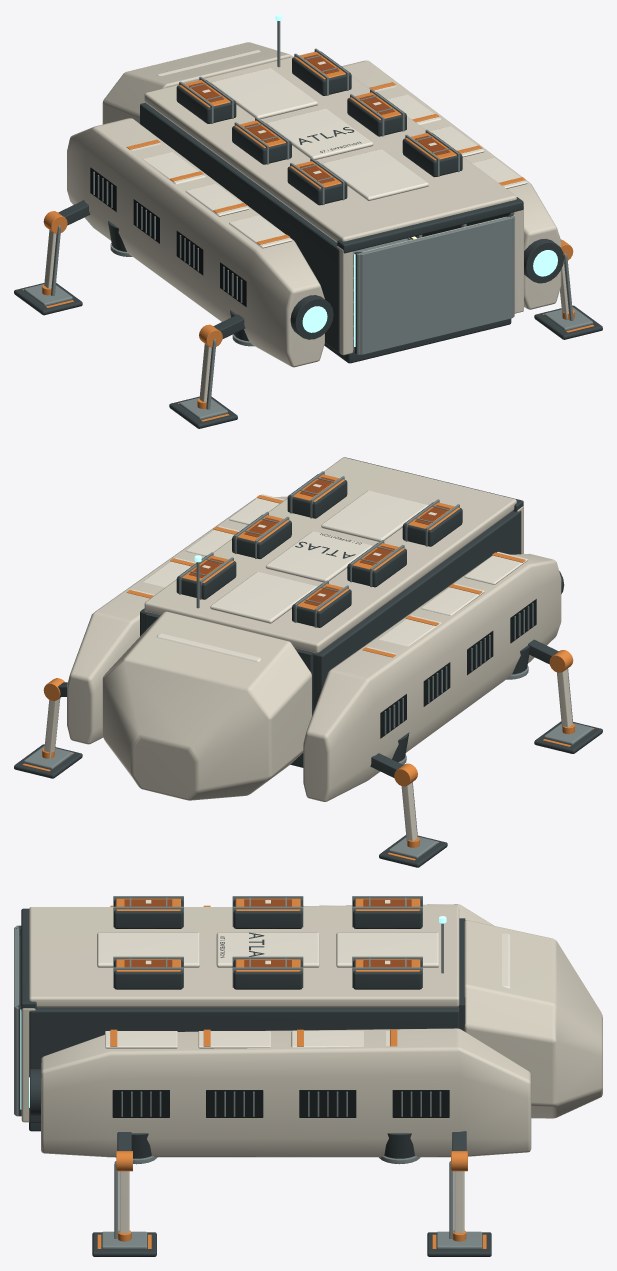
The model's file is atlas.glb.
The picture shows the model from 3 angles, top to bottom: view 1: azimuth 30°, elevation 25°; view 2: azimuth 150°, elevation 25°; view 3: azimuth 270°, elevation 25°; orthographic projection. The views are drawn at different scales.
Parts seen in each view (by area): view 1: atlas__warm_ivory, atlas__graphite, ramp_section_3__satin_steel, atlas__highlight, atlas__satin_steel, atlas__safety_orange, atlas__carbon, atlas__burnt_orange, atlas__ion_mint, foot_left_front__graphite, foot_right_aft__graphite, foot_left_aft__graphite (+6 smaller); view 2: atlas__warm_ivory, atlas__highlight, atlas__graphite, atlas__satin_steel, atlas__safety_orange, atlas__carbon, atlas__burnt_orange, foot_right_front__graphite, foot_left_aft__graphite, foot_left_front__graphite, lower_left_front__warm_ivory, lower_left_aft__warm_ivory (+4 smaller); view 3: atlas__warm_ivory, atlas__graphite, atlas__highlight, atlas__carbon, atlas__satin_steel, atlas__safety_orange, atlas__burnt_orange, foot_right_aft__graphite, foot_right_front__graphite, foot_right_front__satin_steel, foot_right_aft__satin_steel, lower_right_aft__warm_ivory (+3 smaller).
Part boxes in pixels (x1,y1,x2,y2): atlas__warm_ivory: (67,42,561,367); atlas__graphite: (108,51,564,363); ramp_section_3__satin_steel: (361,217,512,354); atlas__highlight: (131,50,527,248); atlas__satin_steel: (93,21,466,349); atlas__safety_orange: (126,51,525,244); atlas__carbon: (90,167,246,306); atlas__burnt_orange: (189,54,450,183); atlas__ion_mint: (275,14,557,346); foot_left_front__graphite: (14,283,82,315); foot_right_aft__graphite: (534,305,602,339); foot_left_aft__graphite: (169,396,237,428); atlas__warm_ivory: (67,457,561,801); atlas__highlight: (132,484,527,661); atlas__graphite: (140,457,564,767); atlas__satin_steel: (179,471,533,764); atlas__safety_orange: (127,474,525,657); atlas__carbon: (380,599,536,738); atlas__burnt_orange: (189,477,450,605); foot_right_front__graphite: (14,744,82,778); foot_left_aft__graphite: (534,721,602,753); foot_left_front__graphite: (379,835,447,867); lower_left_front__warm_ivory: (401,782,417,845); lower_left_aft__warm_ivory: (557,669,572,731); atlas__warm_ivory: (21,904,602,1157); atlas__graphite: (21,899,465,1158); atlas__highlight: (97,900,510,1048); atlas__carbon: (112,1090,449,1117); atlas__satin_steel: (113,896,443,1164); atlas__safety_orange: (110,898,420,1046); atlas__burnt_orange: (124,899,411,967); foot_right_aft__graphite: (92,1232,156,1256); foot_right_front__graphite: (427,1232,491,1256); foot_right_front__satin_steel: (436,1231,482,1249); foot_right_aft__satin_steel: (102,1231,147,1249); lower_right_aft__warm_ivory: (119,1171,129,1232).
Bounding box in the file's own units: 21.1 × 11.77 × 24.62.
